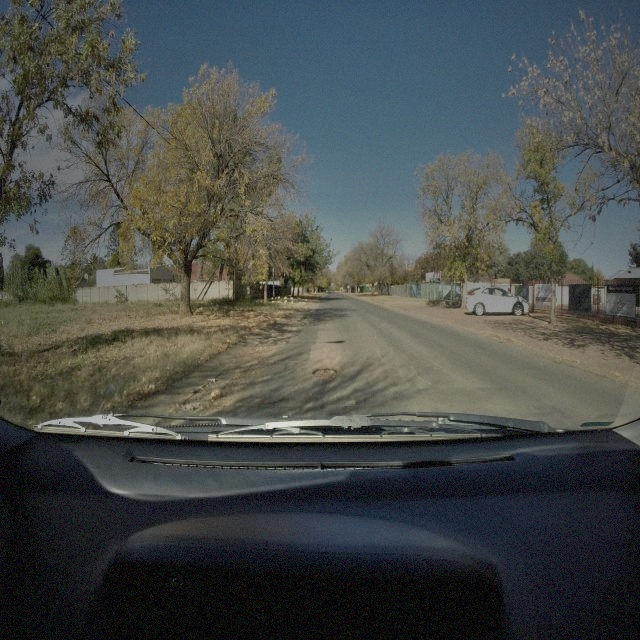pothole: (312, 365, 338, 383)
